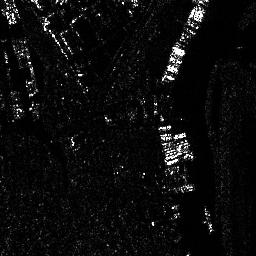ship: (203, 205, 214, 233), (176, 184, 196, 193), (173, 45, 186, 57), (165, 157, 180, 166), (187, 19, 199, 30), (172, 131, 186, 140), (170, 55, 182, 65), (166, 64, 178, 73), (164, 74, 175, 81), (158, 124, 172, 129)
